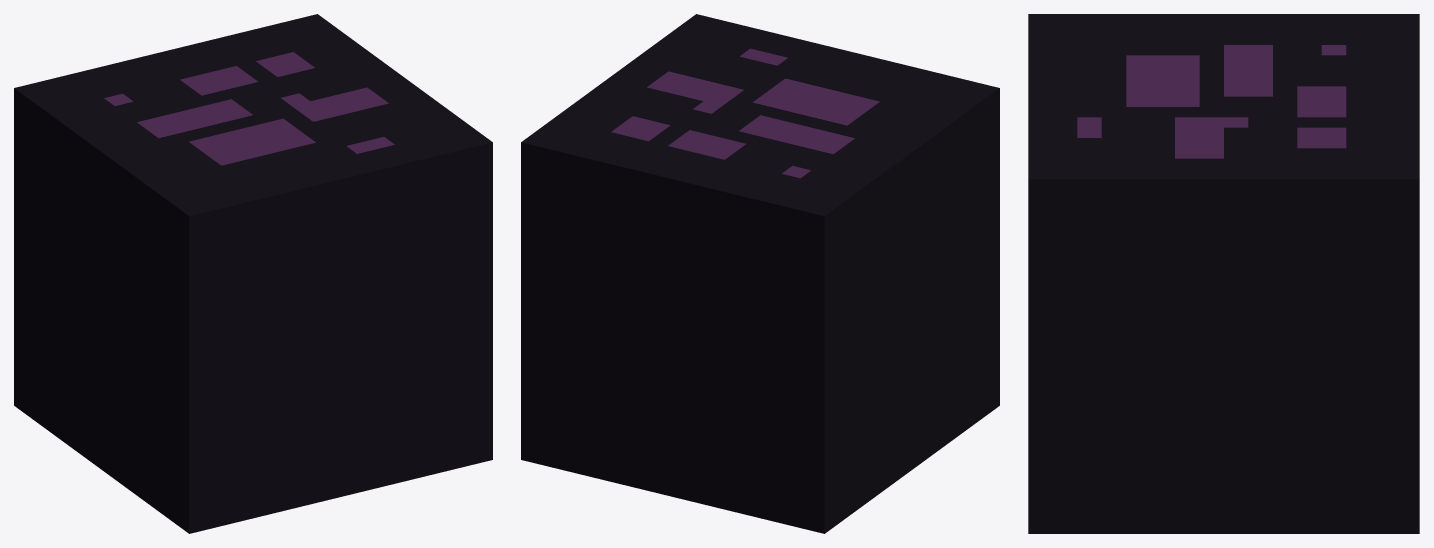
Rendered from tiles-6.obj.
The picture shows the model from 3 angles, left to right: view 1: azimuth 30°, elevation 25°; view 2: azimuth 150°, elevation 25°; view 3: azimuth 270°, elevation 25°; orthographic projection. The views are drawn at different scales.
Bounding box in the file's own units: 1.6 × 1.6 × 1.6.
1 material, 1 textured.
